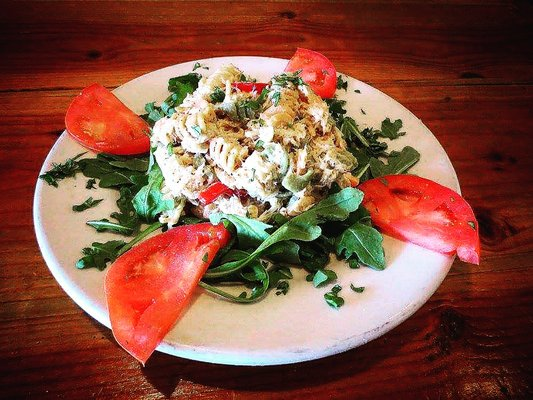curry: (3, 0, 531, 400)
